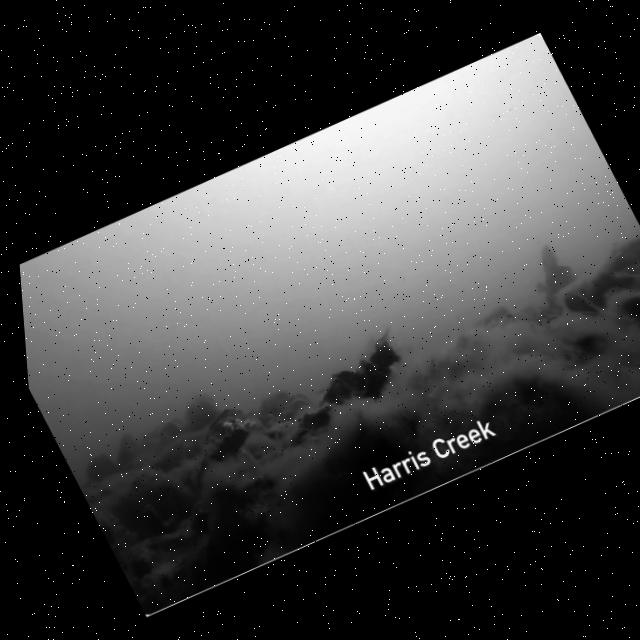Oyster-Closed: (256, 406, 284, 429)
Oyster-Indeterminate: (223, 484, 295, 540), (580, 256, 640, 320), (315, 361, 374, 409), (292, 397, 348, 439), (198, 400, 254, 441), (595, 228, 640, 279), (136, 524, 190, 563), (559, 284, 602, 326), (354, 351, 395, 393), (530, 242, 570, 283), (613, 288, 640, 332), (365, 340, 402, 372), (258, 420, 294, 450), (279, 386, 316, 413), (181, 499, 213, 528), (632, 325, 640, 391), (289, 398, 314, 416)
Oyster-Open: (188, 421, 265, 478)
